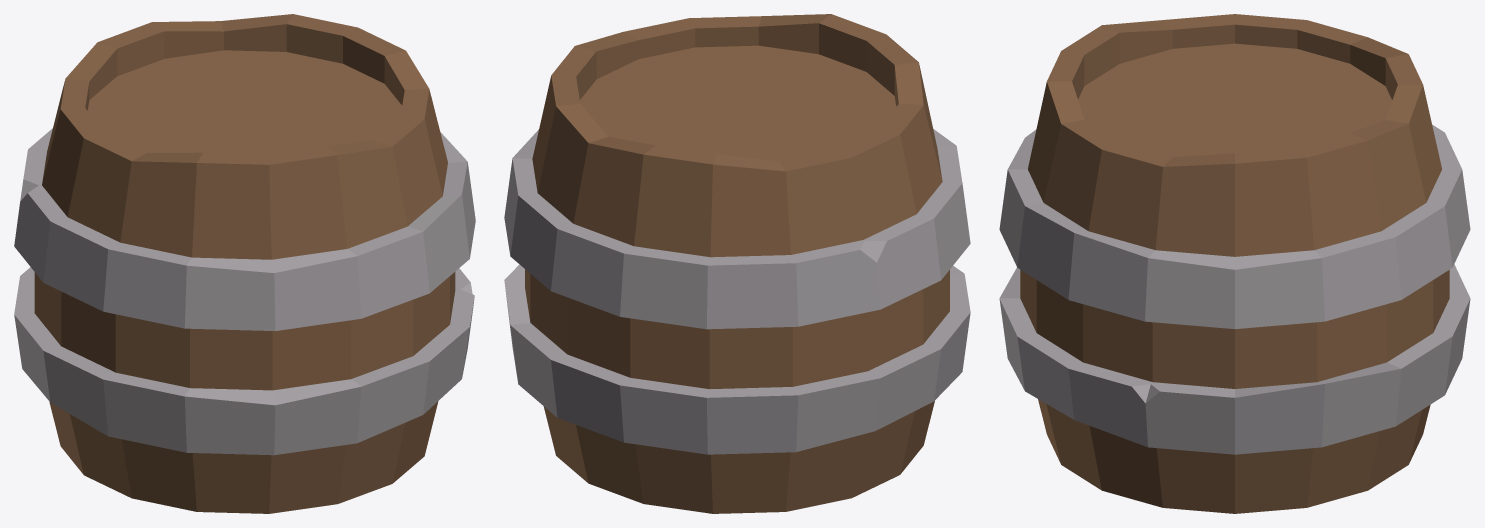
Rendered from Barrel.fbx.
The picture shows the model from 3 angles, left to right: view 1: azimuth 30°, elevation 25°; view 2: azimuth 150°, elevation 25°; view 3: azimuth 270°, elevation 25°; orthographic projection.
Parts seen in each view (by area): view 1: Cylinder.001; view 2: Cylinder.001; view 3: Cylinder.001.
Boxes of the visible parts, x1,y1,x2,y2 form: Cylinder.001: [14, 14, 475, 513]; Cylinder.001: [504, 14, 970, 513]; Cylinder.001: [999, 14, 1470, 513].
Bounding box in the file's own units: 250 × 207 × 250.
